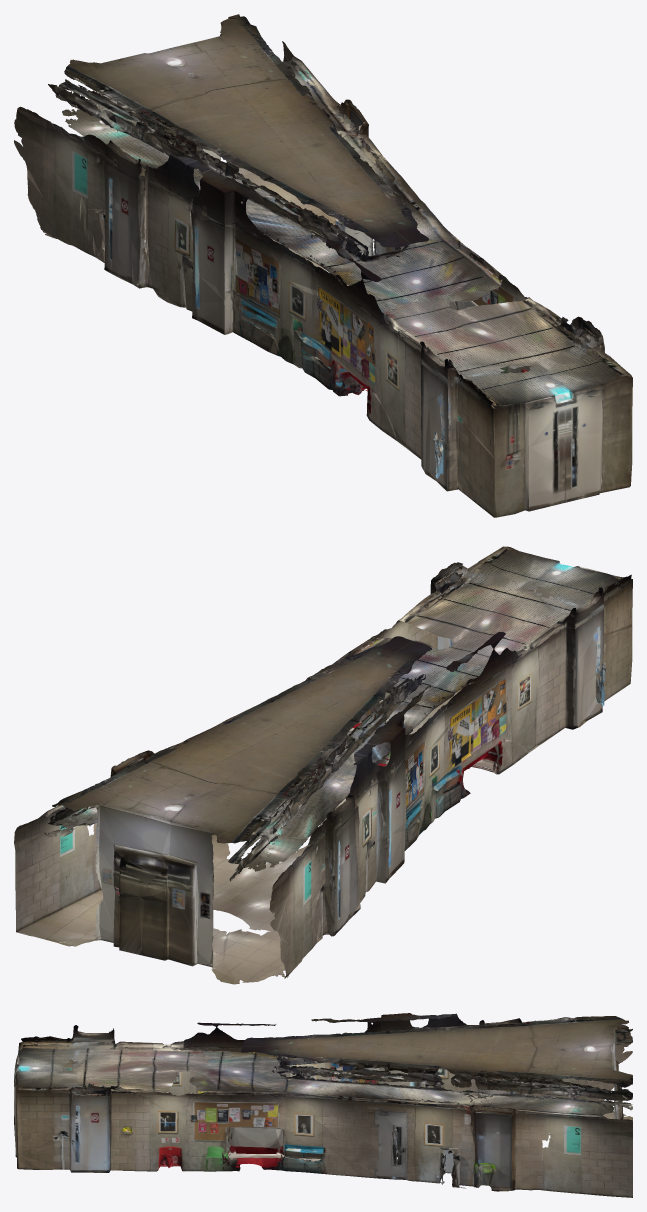
File: 2_corridor_3-LP.fbx
The picture shows the model from 3 angles, top to bottom: view 1: azimuth 30°, elevation 25°; view 2: azimuth 150°, elevation 25°; view 3: azimuth 270°, elevation 25°; orthographic projection. The views are drawn at different scales.
Visible parts, largest first — view 1: 2_corridor_3 LP; view 2: 2_corridor_3 LP; view 3: 2_corridor_3 LP.
Boxes of the visible parts, box(x1,y1,x2,y2) form: 2_corridor_3 LP: box(14, 14, 632, 517); 2_corridor_3 LP: box(14, 546, 632, 984); 2_corridor_3 LP: box(14, 1013, 632, 1197).
Bounding box in the file's own units: 622 × 336 × 1733.
1 material, 1 textured.
